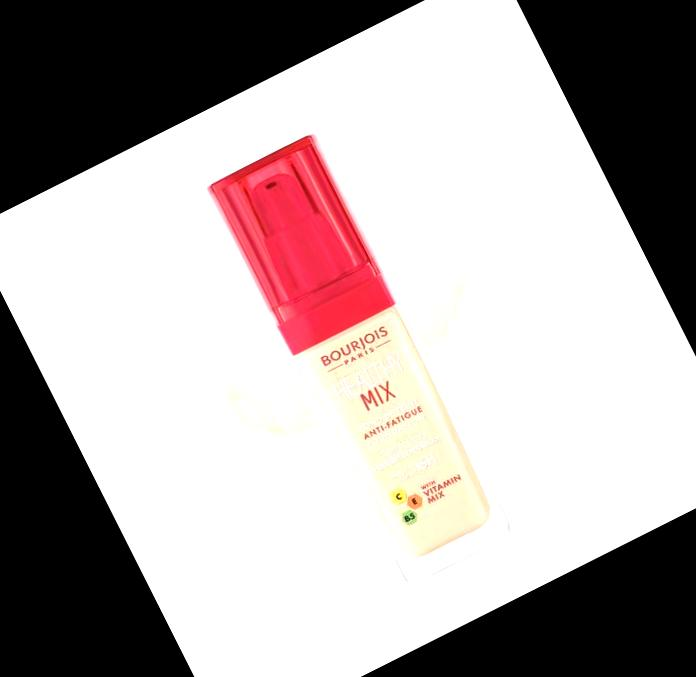cosmetic: (201, 130, 523, 598)
